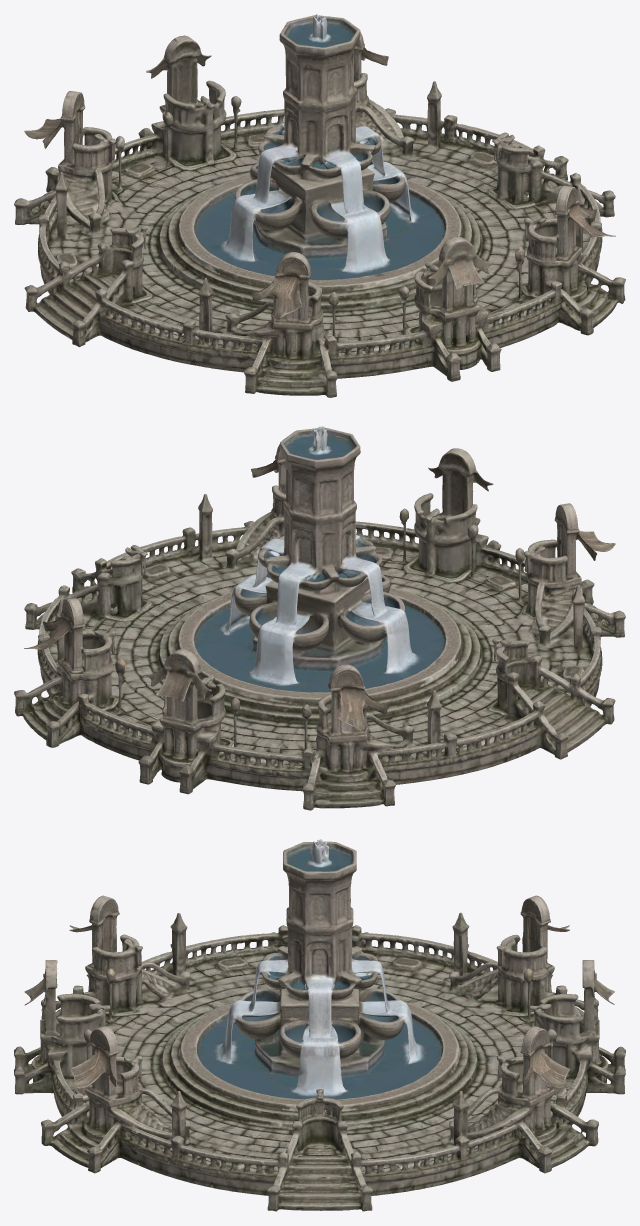
Rendered from blauerhirsch.glb.
The picture shows the model from 3 angles, top to bottom: view 1: azimuth 30°, elevation 25°; view 2: azimuth 150°, elevation 25°; view 3: azimuth 270°, elevation 25°; orthographic projection. The views are drawn at different scales.
Bounding box in the file's own units: 1.9 × 0.8487 × 1.9.
1 material, 1 textured.
